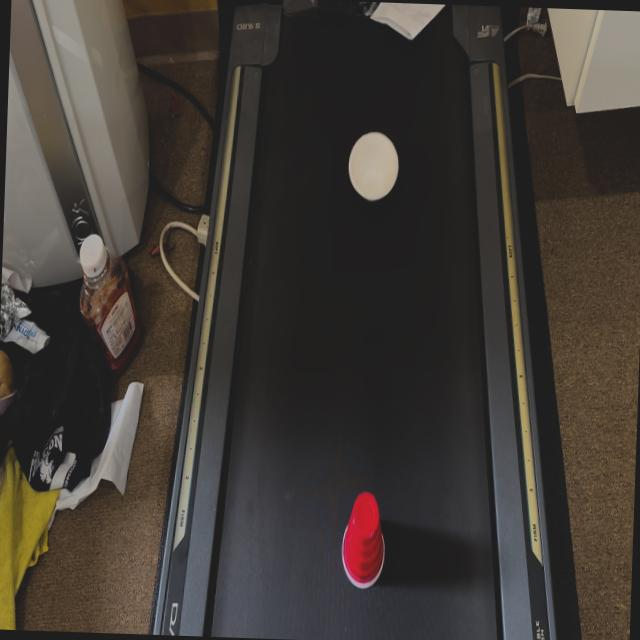Recycle: (339, 491, 388, 592), (347, 130, 403, 208)
